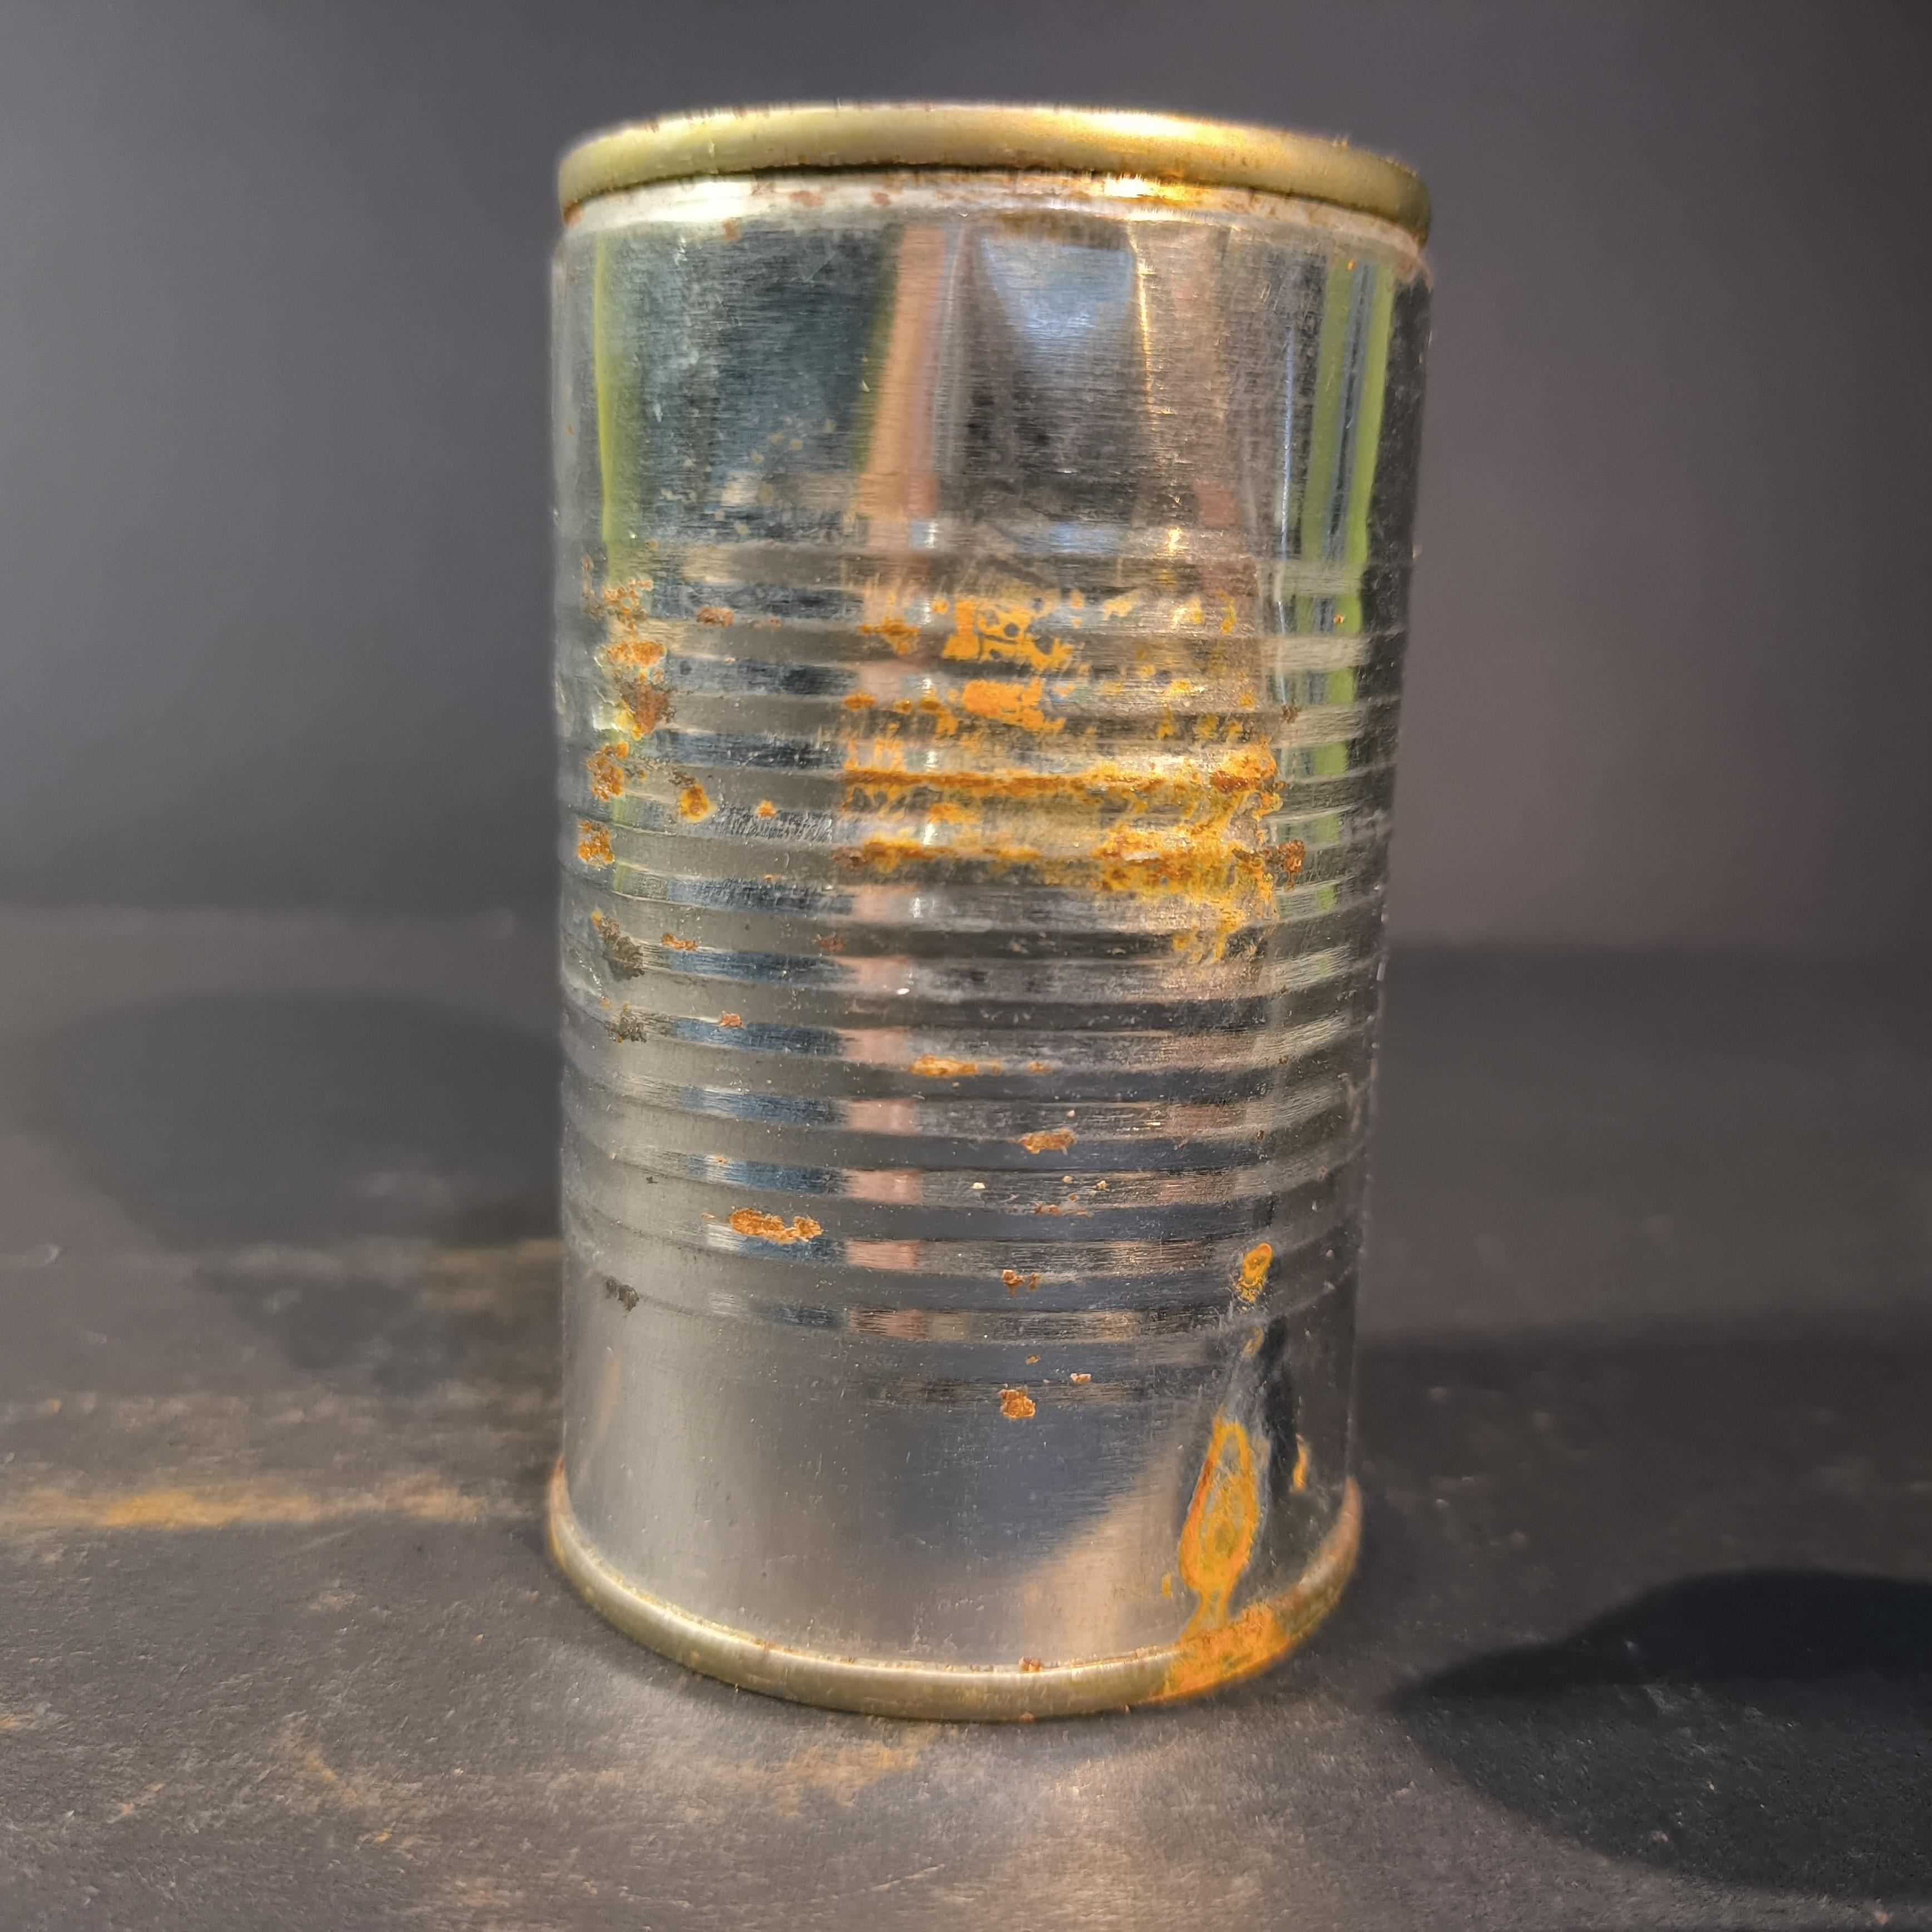Major Defect: (546, 97, 1439, 1717)
